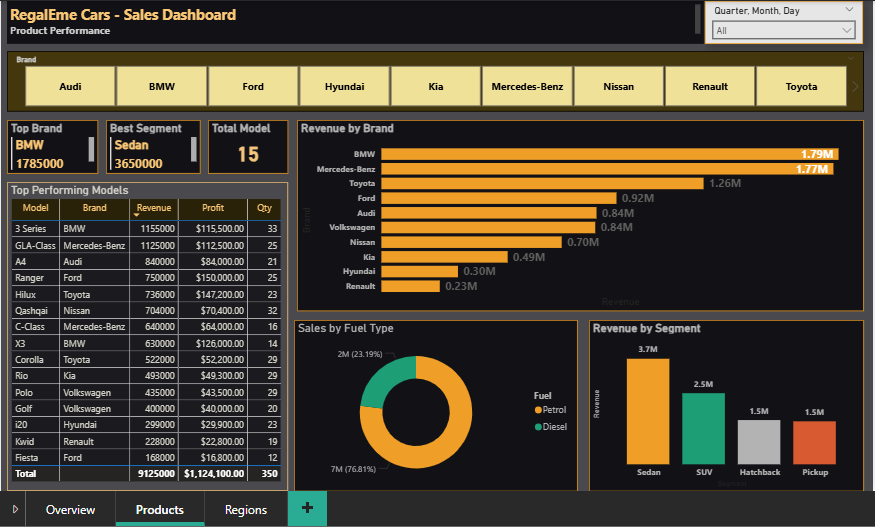

This screenshot's page, from the dashboard's own definition file:
{"tool":"powerbi","page":{"name":"Products","canvas":[1280,720],"ordinal":1},"visuals":[{"type":"multiRowCard","title":"Top Brand","fields":{"Values":["0- Measures.Revenue","Models.Brand"]},"box":[8.9,175.2,134.1,78.7],"z":0},{"type":"textbox","box":[8.9,0,1024.4,62.6],"z":1000},{"type":"clusteredBarChart","title":"Revenue by Brand","fields":{"Category":["Models.Brand"],"Y":["0- Measures.Revenue"]},"box":[434.4,175.2,833.1,280.7],"z":2000},{"type":"donutChart","title":"Sales by Fuel Type","fields":{"Category":["Models.Fuel"],"Y":["0- Measures.Revenue"]},"box":[430.8,468.4,416.5,252.1],"z":3000},{"type":"slicer","fields":{"Values":["Sales.Date.Variation.Date Hierarchy.Quarter","Sales.Date.Variation.Date Hierarchy.Month","Sales.Date.Variation.Date Hierarchy.Day"]},"box":[1035.1,0,232.4,62.6],"z":4000},{"type":"multiRowCard","title":"Best Segment","fields":{"Values":["0- Measures.Revenue","Models.Segment"]},"box":[153.7,175.2,139.4,78.7],"z":5000},{"type":"slicer","fields":{"Values":["Models.Brand"]},"box":[8.9,73.3,1258.5,89.4],"z":6000},{"type":"tableEx","title":"Top Performing Models","fields":{"Values":["Models.Model","Models.Brand","0- Measures.Revenue","0- Measures.Profit","0- Measures.Qty"]},"box":[8.9,266.4,413,454.1],"z":7000},{"type":"clusteredColumnChart","title":"Revenue by Segment","fields":{"Category":["Models.Segment"],"Y":["0- Measures.Revenue"]},"box":[863.5,468.4,404,252.1],"z":8000},{"type":"card","title":"Total Model","fields":{"Values":["Count(Models.Model)"]},"box":[303.9,175.2,118,78.7],"z":8001}]}

Visuals, with their boxes on the page's 1280x720 design canvas (x1, y1, x2, y2). These are canvas units, not pixel positions in the 875x527 screenshot, which may show the page scaled, cropped or inside an application window:
"Top Brand" multiRowCard: rect(9, 175, 143, 254)
textbox: rect(9, 0, 1033, 63)
"Revenue by Brand" clusteredBarChart: rect(434, 175, 1268, 456)
"Sales by Fuel Type" donutChart: rect(431, 468, 847, 720)
slicer - Sales.Date.Variation.Date Hierarchy.Quarter x Sales.Date.Variation.Date Hierarchy.Month: rect(1035, 0, 1268, 63)
"Best Segment" multiRowCard: rect(154, 175, 293, 254)
slicer - Models.Brand: rect(9, 73, 1267, 163)
"Top Performing Models" tableEx: rect(9, 266, 422, 720)
"Revenue by Segment" clusteredColumnChart: rect(864, 468, 1268, 720)
"Total Model" card: rect(304, 175, 422, 254)
